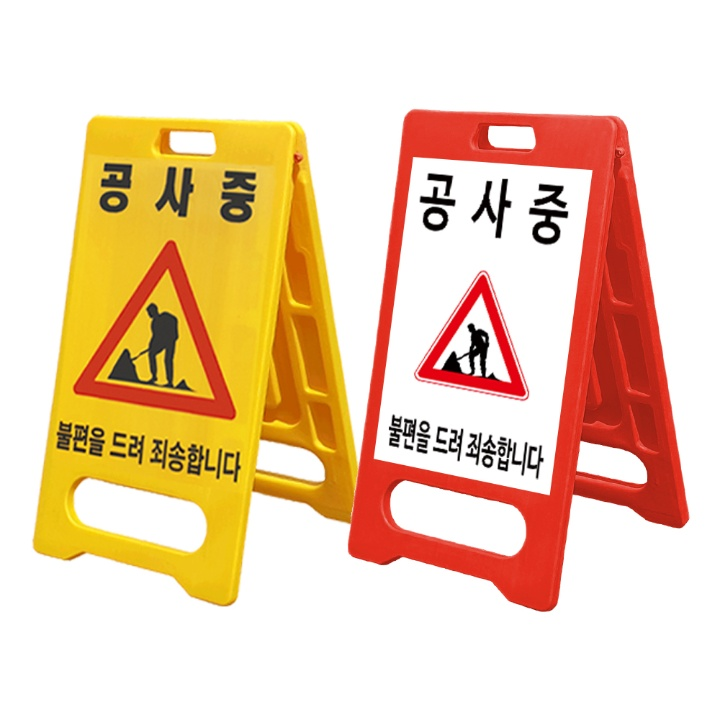const: (108, 294, 204, 391), (427, 318, 500, 387)
